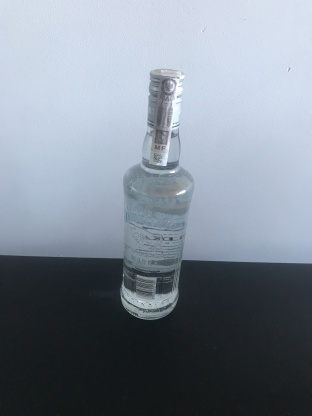nakretka: (144, 63, 187, 134)
